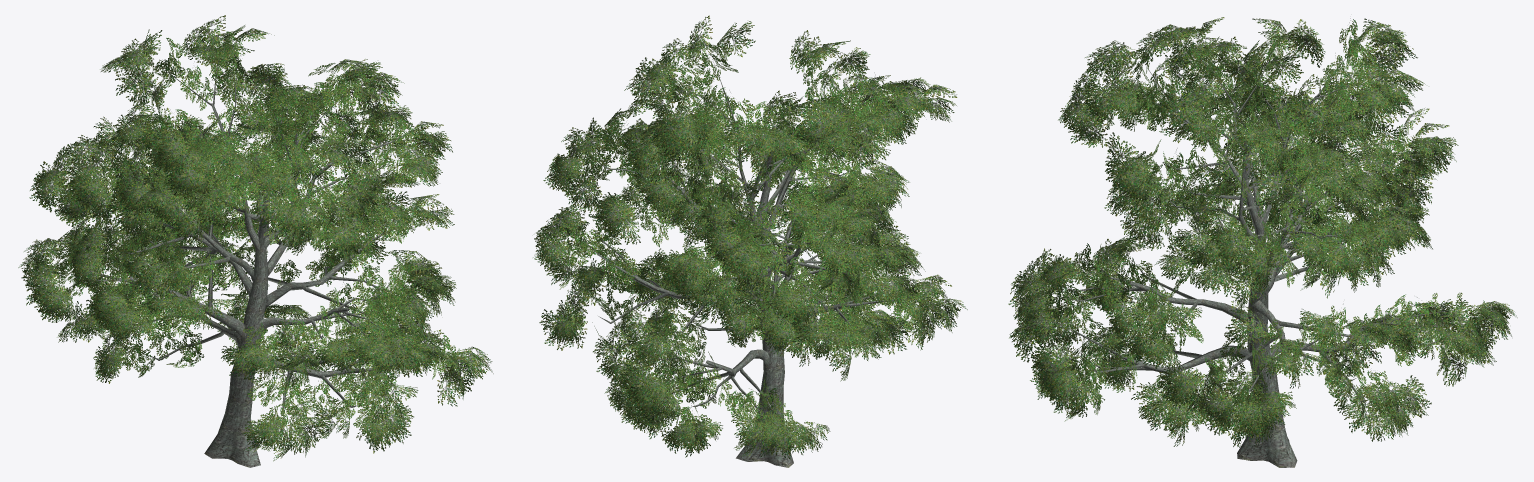
The model's file is defaultwhiteoak.glb.
3 renders of one model, left to right at view 1: azimuth 30°, elevation 25°; view 2: azimuth 150°, elevation 25°; view 3: azimuth 270°, elevation 25°, orthographic. The views are drawn at different scales.
Parts seen in each view (by area): view 1: DefaultWhiteOak; view 2: DefaultWhiteOak; view 3: DefaultWhiteOak.
Boxes of the visible parts, x1,y1,x2,y2 form: DefaultWhiteOak: (18,15,493,467); DefaultWhiteOak: (533,15,967,467); DefaultWhiteOak: (1008,17,1517,467).
Bounding box in the file's own units: 23.49 × 21.3 × 23.53.
5 materials, 5 textured.
